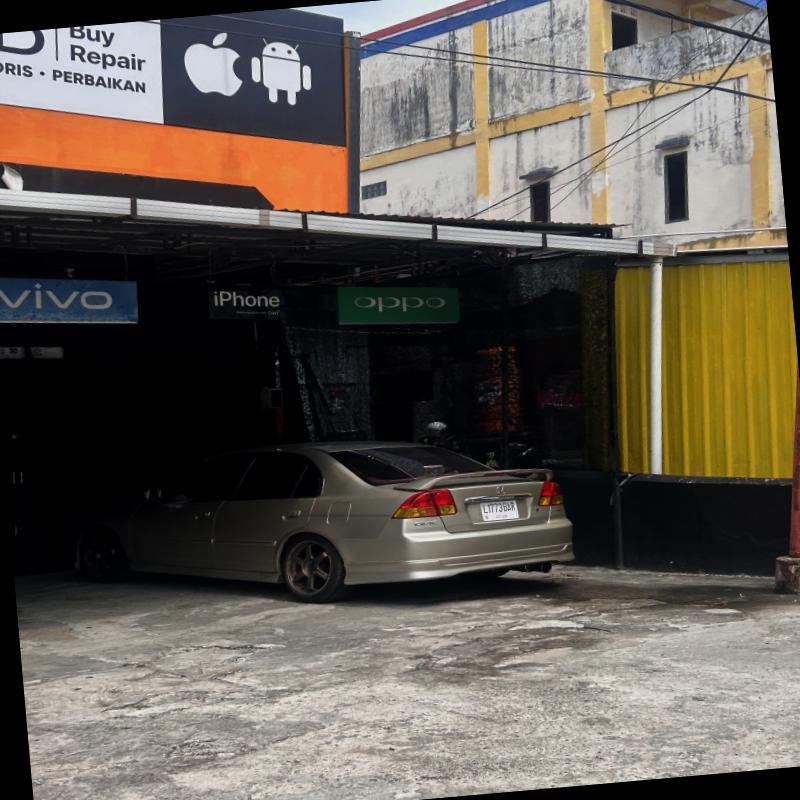license plate on a car: (480, 500, 520, 521)
